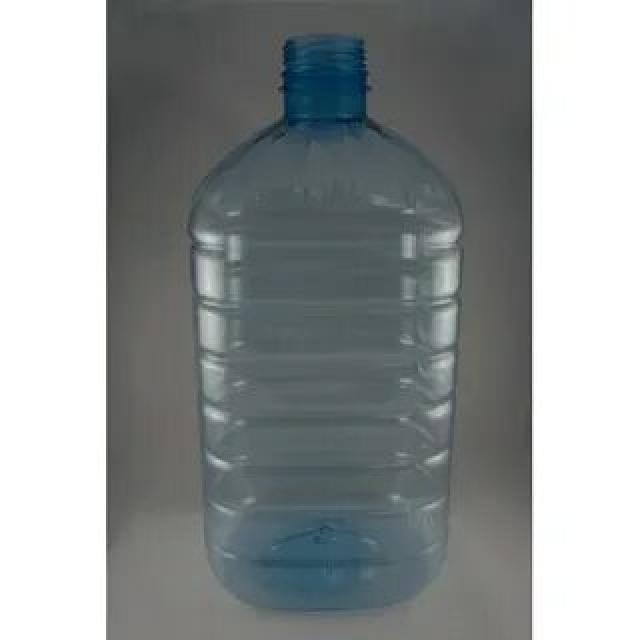blue: (190, 30, 462, 615)
